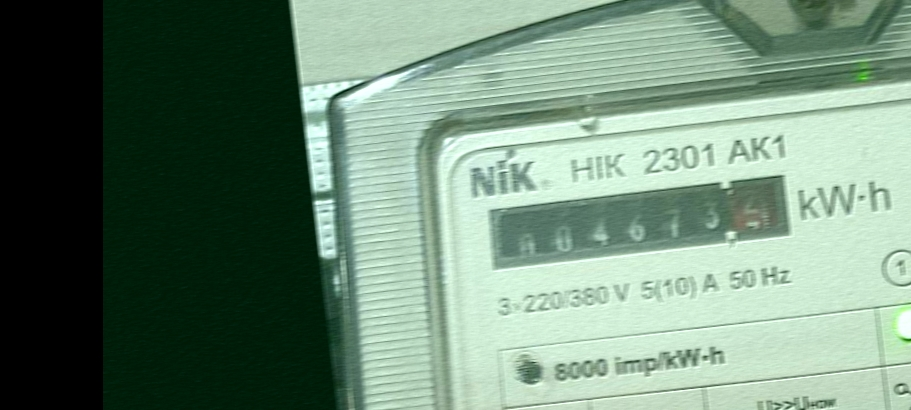0: (517, 230, 540, 262), (554, 224, 576, 257)
2: (740, 186, 764, 220)
3: (703, 200, 723, 236)
4: (592, 216, 614, 252)
6: (625, 211, 650, 248)
7: (663, 207, 689, 246)
screen: (484, 171, 799, 283)
